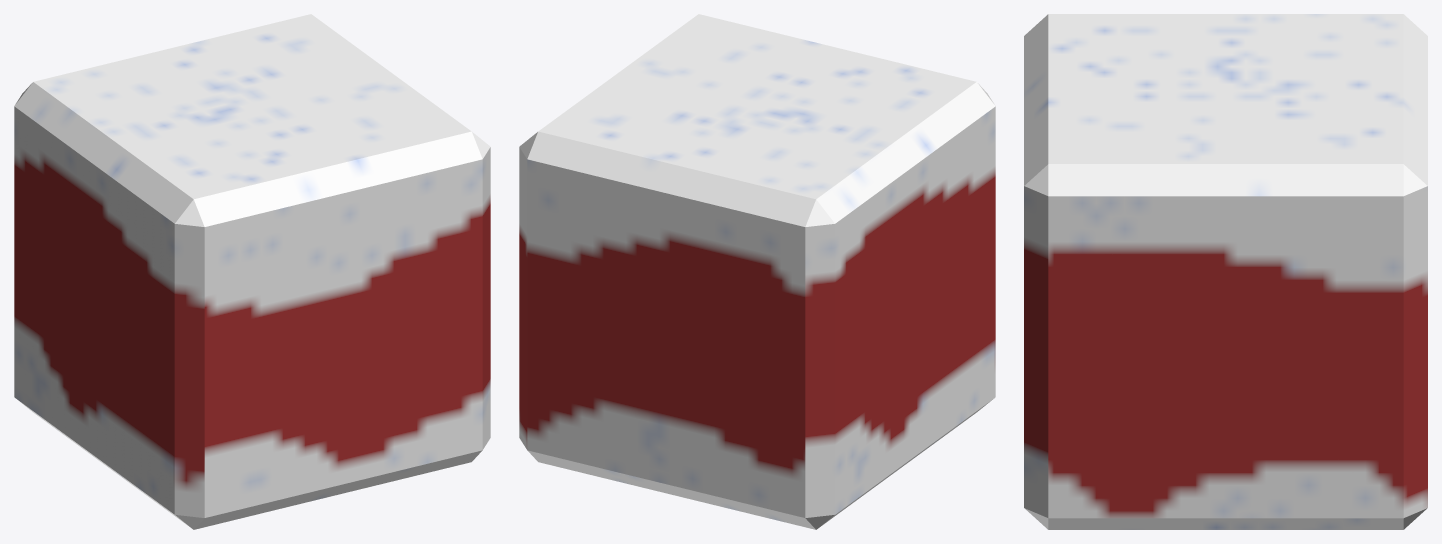
The model's file is Block_01.obj.
3 renders of one model, left to right at view 1: azimuth 30°, elevation 25°; view 2: azimuth 150°, elevation 25°; view 3: azimuth 270°, elevation 25°, orthographic. The views are drawn at different scales.
Visible parts, largest first — view 1: Cube; view 2: Cube; view 3: Cube.
Part boxes in pixels (x1,y1,x2,y2): Cube: (14,14,490,529); Cube: (519,14,995,529); Cube: (1024,14,1427,529).
Size of the model in its own units: 2 by 2 by 2.
